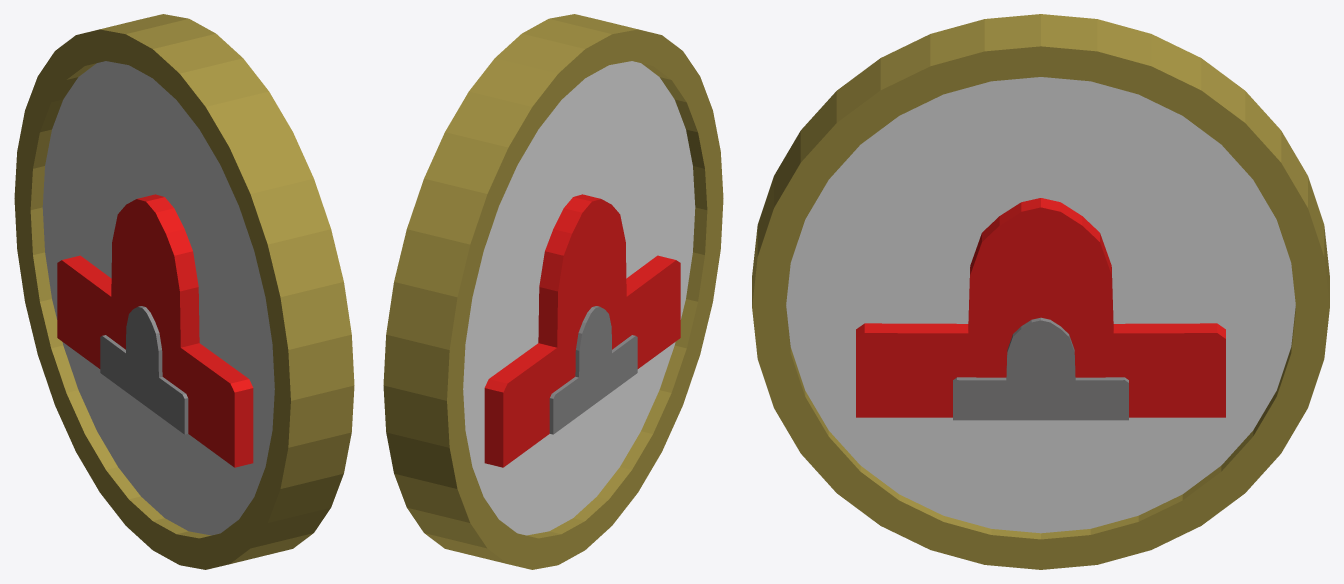
File: big.fbx
3 renders of one model, left to right at view 1: azimuth 30°, elevation 25°; view 2: azimuth 150°, elevation 25°; view 3: azimuth 270°, elevation 25°, orthographic. The views are drawn at different scales.
Parts seen in each view (by area): view 1: Big; view 2: Big; view 3: Big.
Part boxes in pixels (x1,y1,x2,y2): Big: (14,14,354,569); Big: (383,14,723,569); Big: (752,14,1329,569).
Bounding box in the file's own units: 35.9 × 200 × 200.
